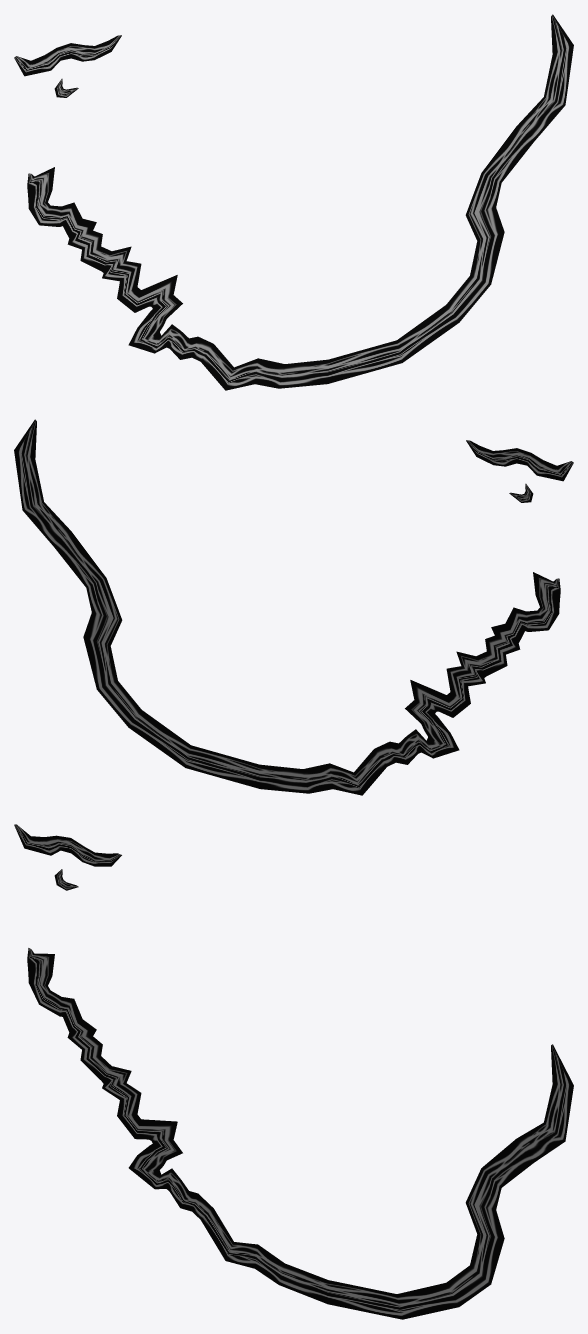
The model's file is Water_wave05.FBX.
3 views of the same model, one above another, from view 1: azimuth 30°, elevation 25°; view 2: azimuth 150°, elevation 25°; view 3: azimuth 330°, elevation 25° (orthographic).
Visible parts, largest first — view 1: Line112; view 2: Line112; view 3: Line112.
Part boxes in pixels (x1,y1,x2,y2): Line112: (14,14,573,390); Line112: (14,419,573,795); Line112: (14,824,573,1319).
Size of the model in its own units: 147 by 102 by 1.31e-05.
